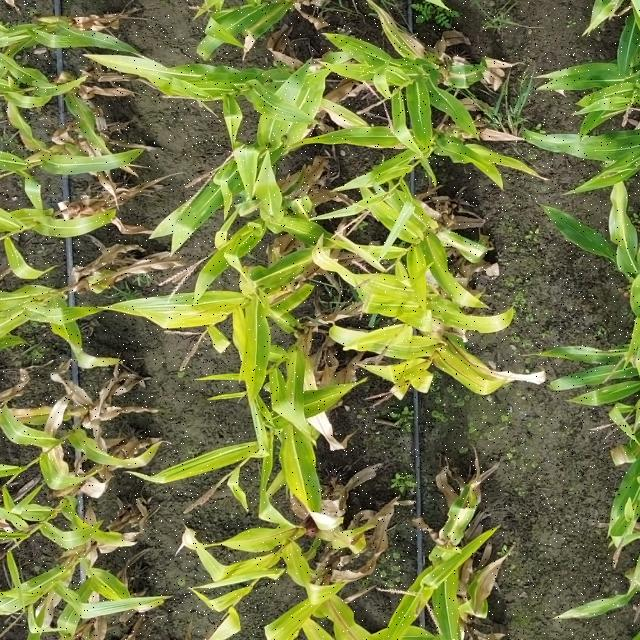gray-leaf-spot: (610, 217, 635, 250), (531, 134, 568, 150), (182, 203, 208, 220)
northern-leaf-blight: (447, 492, 482, 538), (326, 599, 360, 638), (464, 568, 490, 619), (440, 233, 491, 257), (447, 337, 484, 369), (448, 65, 484, 85)
